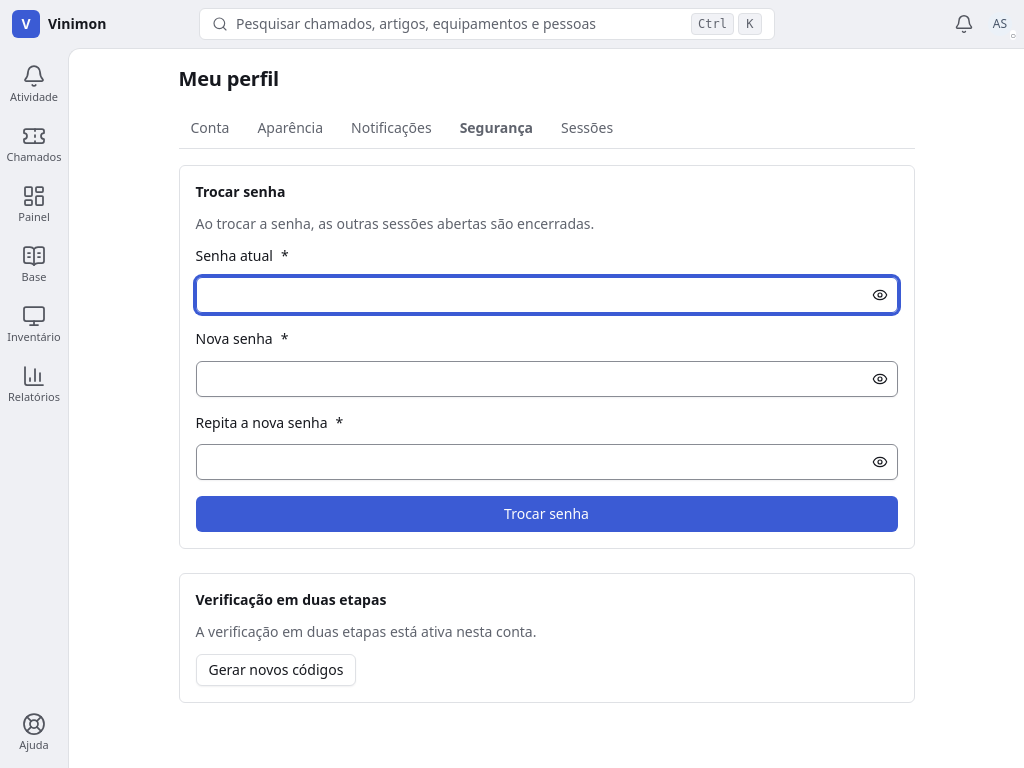
it: /perfil/seguranca › 400 com detalhes aparece no campo
The image size is (1024, 768).
Type "Antiga#12345" into the password field labelled "Senha atual *".
click(546, 295); type("Antiga#12345")  # box [196, 277, 898, 313]
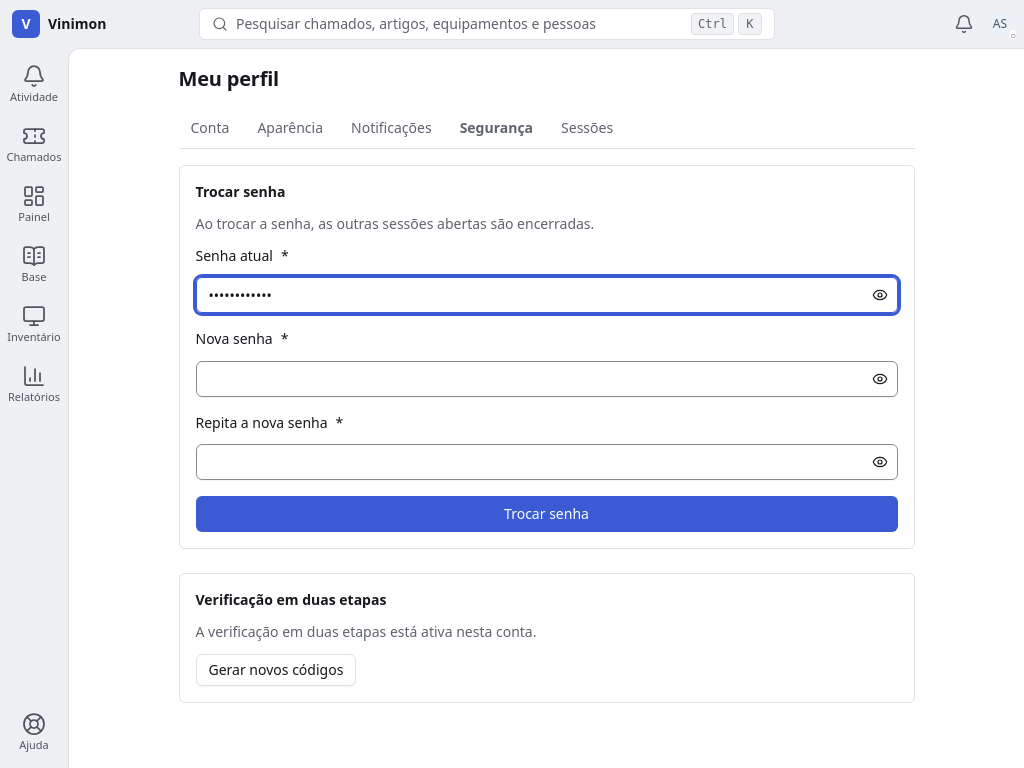
Type "fraca" into the password field labelled "Nova senha *".
click(546, 378); type("fraca")  # box [196, 360, 898, 396]
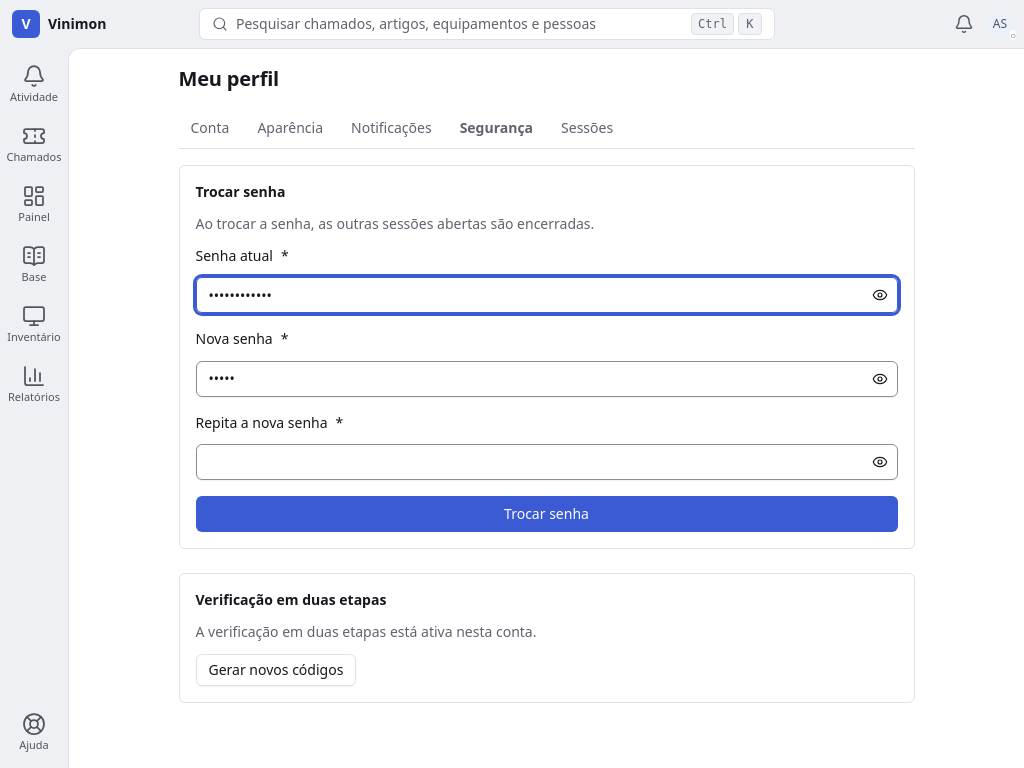
Type "fraca" into the password field labelled "Repita a nova senha *".
click(546, 462); type("fraca")  # box [196, 444, 898, 480]
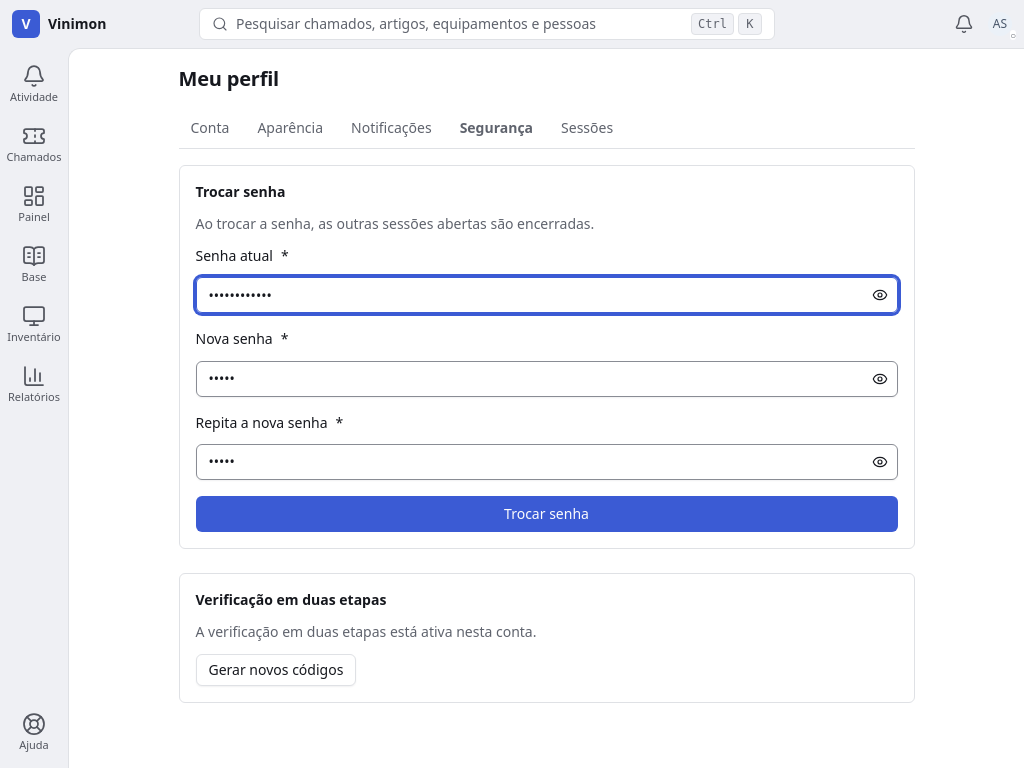
Click the button "Trocar senha".
click(546, 514)  # box [196, 496, 898, 532]
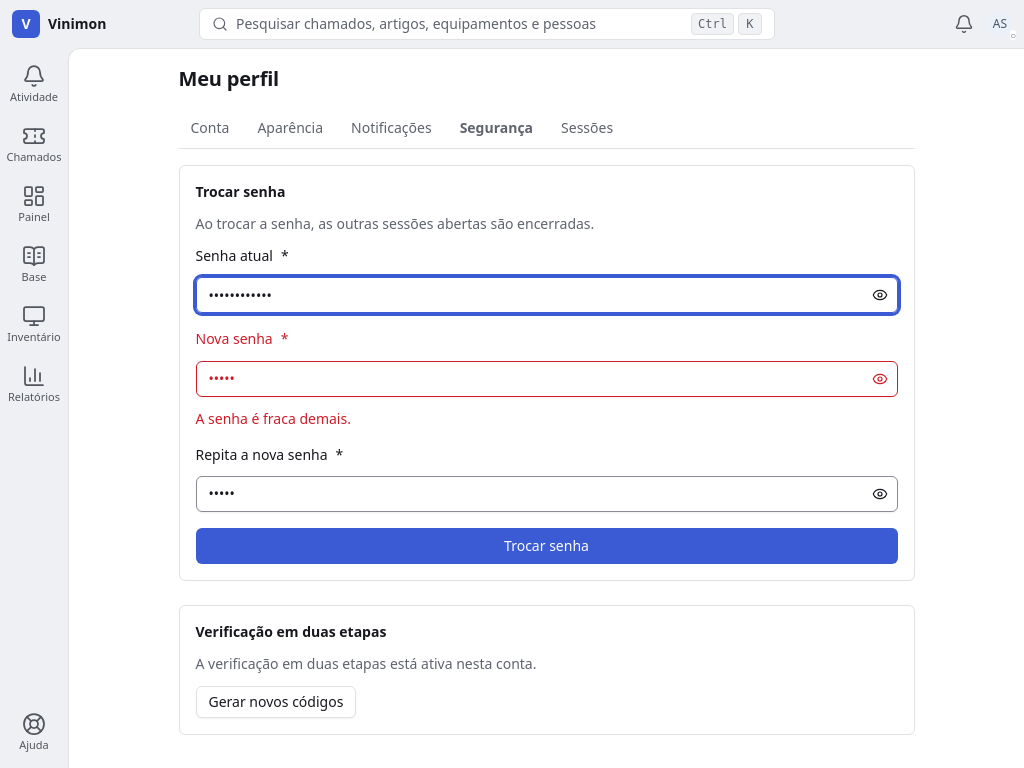
Expected: the text "A senha é fraca demais." is shown, [196, 408, 351, 428]
